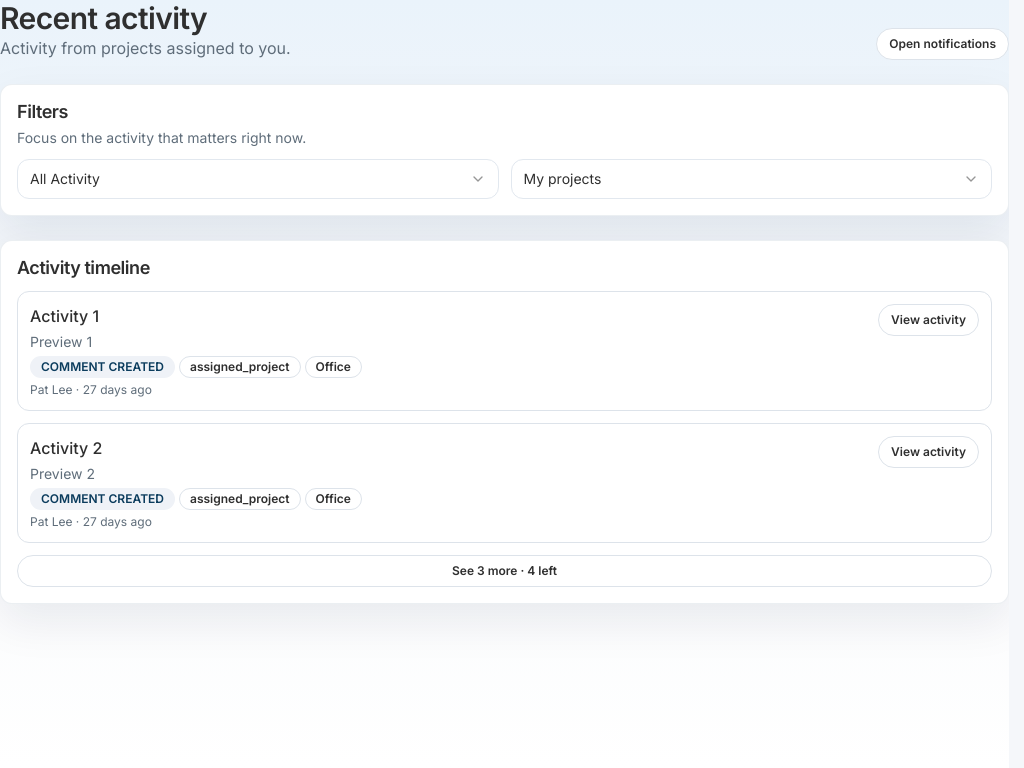
Test: Activity timeline › shows two items, then three more at a time
Expected: the text "Activity 1" is shown, [30, 306, 99, 326]
Expected: the text "Activity 2" is shown, [30, 438, 102, 458]
Click the button "See 3 more · 4 left" at (504, 571), box [17, 555, 992, 587]
(page scrolled)
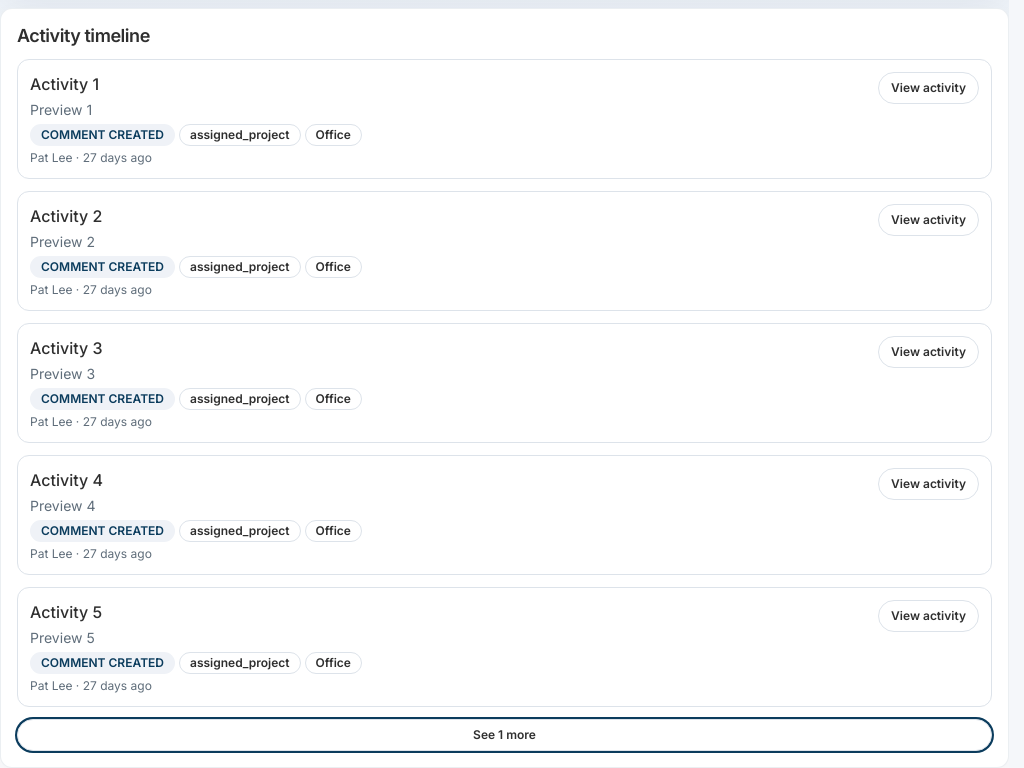
Expected: the text "Activity 6" is not shown
Now the text "Activity 5" is shown, box [30, 602, 102, 622]
Click the button "See 1 more" at (504, 735), box [17, 719, 992, 751]
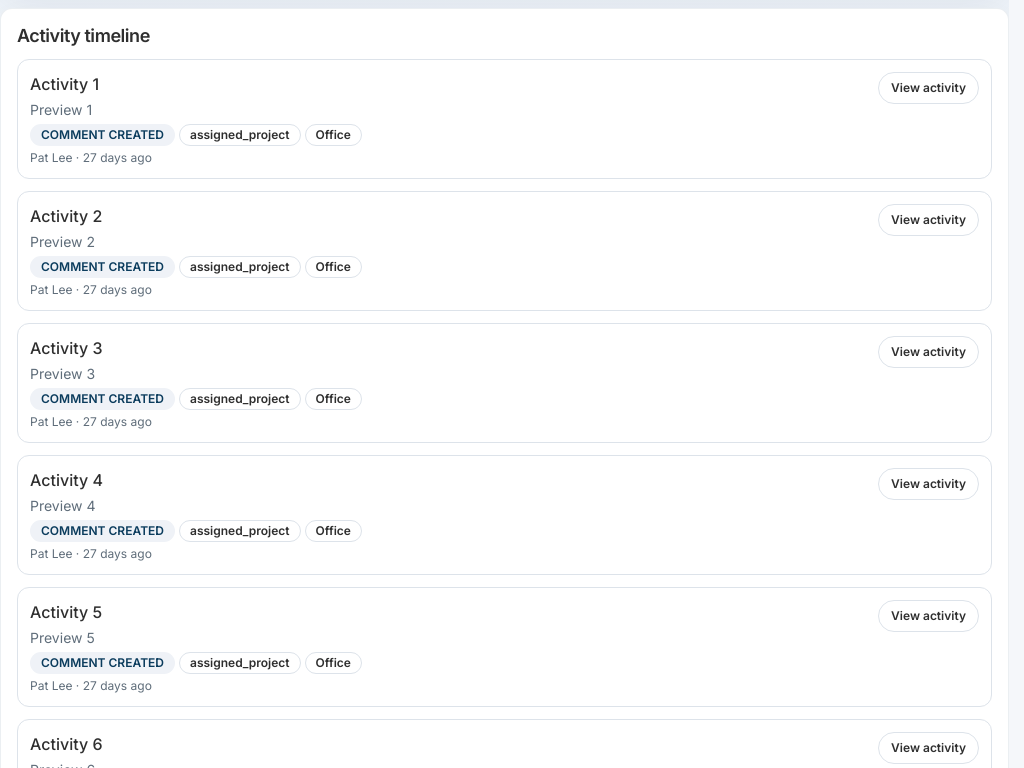
Now the text "Activity 6" is shown, box [30, 734, 102, 754]
